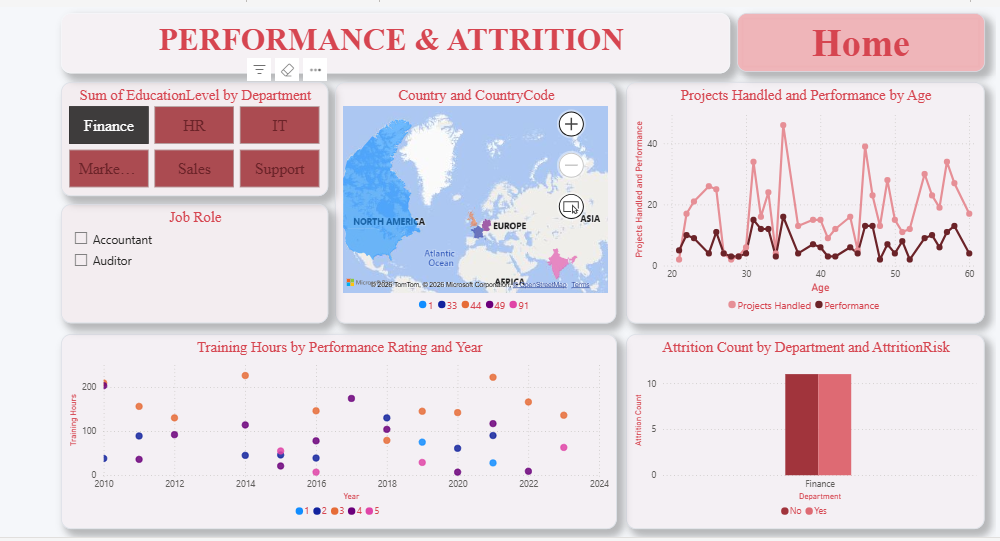

Layout of this report page (visuals, bound fields, positions):
{"tool":"powerbi","page":{"name":"Department","canvas":[1280,720],"ordinal":1},"visuals":[{"type":"textbox","box":[10.2,8.8,908.8,82],"z":0},{"type":"advancedSlicerVisual","fields":{"Values":["employee_performance_pro.Department"]},"box":[10.2,102.4,362.9,155.1],"z":2000},{"type":"lineChart","fields":{"Y":["Sum(employee_performance_pro.ProjectsHandled)","Sum(employee_performance_pro.PerformanceRating)"],"Category":["employee_performance_pro.Age"]},"box":[778.5,102.4,487.3,327.8],"z":3000},{"type":"clusteredColumnChart","fields":{"Y":["employee_performance_pro.Attrition Count"],"Series":["employee_performance_pro.AttritionRisk"],"Category":["employee_performance_pro.Department"]},"box":[778.5,444.9,487.3,264.9],"z":4000},{"type":"filledMap","fields":{"Category":["employee_performance_pro.Country"],"Series":["employee_performance_pro.CountryCode"]},"box":[383.4,102.4,382,327.8],"z":5000},{"type":"scatterChart","fields":{"Y":["Sum(employee_performance_pro.TrainingHours)"],"X":["employee_performance_pro.JoiningDate.Variation.Date Hierarchy.Year","employee_performance_pro.JoiningDate.Variation.Date Hierarchy.Quarter","employee_performance_pro.JoiningDate.Variation.Date Hierarchy.Month","employee_performance_pro.JoiningDate.Variation.Date Hierarchy.Day"],"Series":["employee_performance_pro.PerformanceRating"]},"box":[10.2,444.9,755.1,264.9],"z":6000},{"type":"slicer","title":"Job Role","fields":{"Values":["employee_performance_pro.JobRole"]},"box":[10.2,267.8,362.9,162.4],"z":7000},{"type":"actionButton","box":[929.3,8.8,336.6,80.5],"z":7001}]}

Visuals, with their boxes on the page's 1280x720 design canvas (x1, y1, x2, y2). These are canvas units, not pixel positions in the 1000x541 screenshot, which may show the page scaled, cropped or inside an application window:
textbox: {"left": 10, "top": 9, "right": 919, "bottom": 91}
advancedSlicerVisual - employee_performance_pro.Department: {"left": 10, "top": 102, "right": 373, "bottom": 258}
lineChart - Sum(employee_performance_pro.ProjectsHandled) x Sum(employee_performance_pro.PerformanceRating): {"left": 778, "top": 102, "right": 1266, "bottom": 430}
clusteredColumnChart - employee_performance_pro.Attrition Count x employee_performance_pro.AttritionRisk: {"left": 778, "top": 445, "right": 1266, "bottom": 710}
filledMap - employee_performance_pro.Country x employee_performance_pro.CountryCode: {"left": 383, "top": 102, "right": 765, "bottom": 430}
scatterChart - Sum(employee_performance_pro.TrainingHours) x employee_performance_pro.JoiningDate.Variation.Date Hierarchy.Year: {"left": 10, "top": 445, "right": 765, "bottom": 710}
"Job Role" slicer: {"left": 10, "top": 268, "right": 373, "bottom": 430}
actionButton: {"left": 929, "top": 9, "right": 1266, "bottom": 89}
